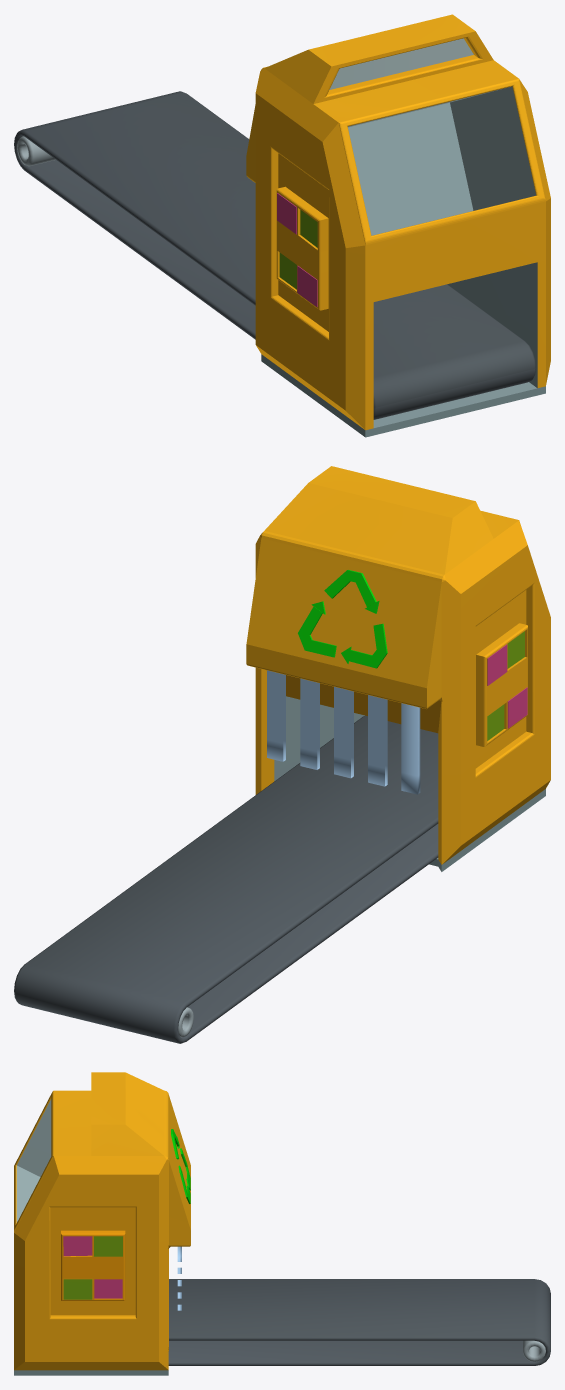
File: recycle3.fbx
3 views of the same model, one above another, from view 1: azimuth 30°, elevation 25°; view 2: azimuth 150°, elevation 25°; view 3: azimuth 270°, elevation 25° (orthographic). The views are drawn at different scales.
Parts seen in each view (by area): view 1: Cube, belt_conveyor; view 2: Cube, belt_conveyor, Cube.001, recycleSign; view 3: Cube, belt_conveyor, recycleSign.
Boxes of the visible parts, bbox=[...] form: Cube: bbox=[246, 14, 550, 437]; belt_conveyor: bbox=[14, 91, 535, 419]; Cube: bbox=[246, 466, 550, 871]; belt_conveyor: bbox=[14, 715, 438, 1043]; Cube.001: bbox=[267, 670, 420, 794]; recycleSign: bbox=[298, 570, 387, 668]; Cube: bbox=[14, 1072, 190, 1375]; belt_conveyor: bbox=[168, 1279, 550, 1365]; recycleSign: bbox=[171, 1129, 190, 1203].
Size of the model in its own units: 234 by 348 by 694.
3 materials, 3 textured.
